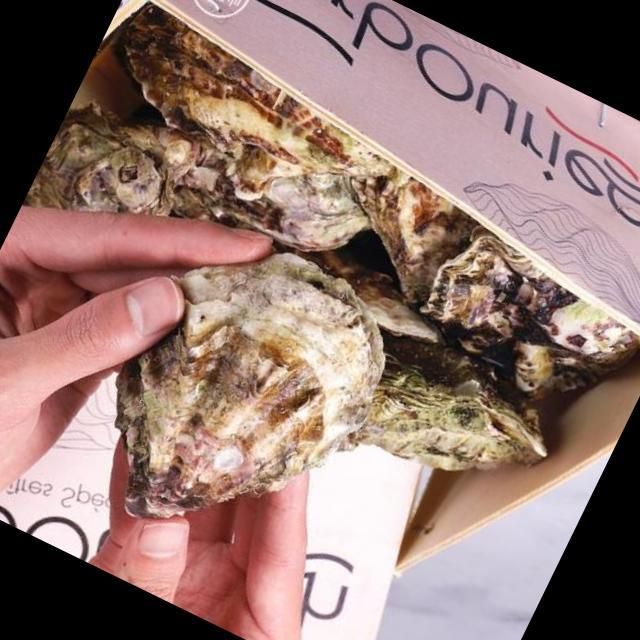Oyster- Indeterminate: (116, 4, 395, 178), (22, 106, 279, 237), (190, 134, 371, 257), (352, 171, 472, 308), (293, 235, 442, 345), (420, 237, 563, 343), (512, 340, 640, 412), (551, 302, 640, 361)
Oyster-Closed: (115, 253, 386, 521), (356, 363, 547, 472)
